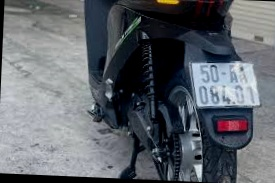Bien-so: (190, 64, 268, 115)
